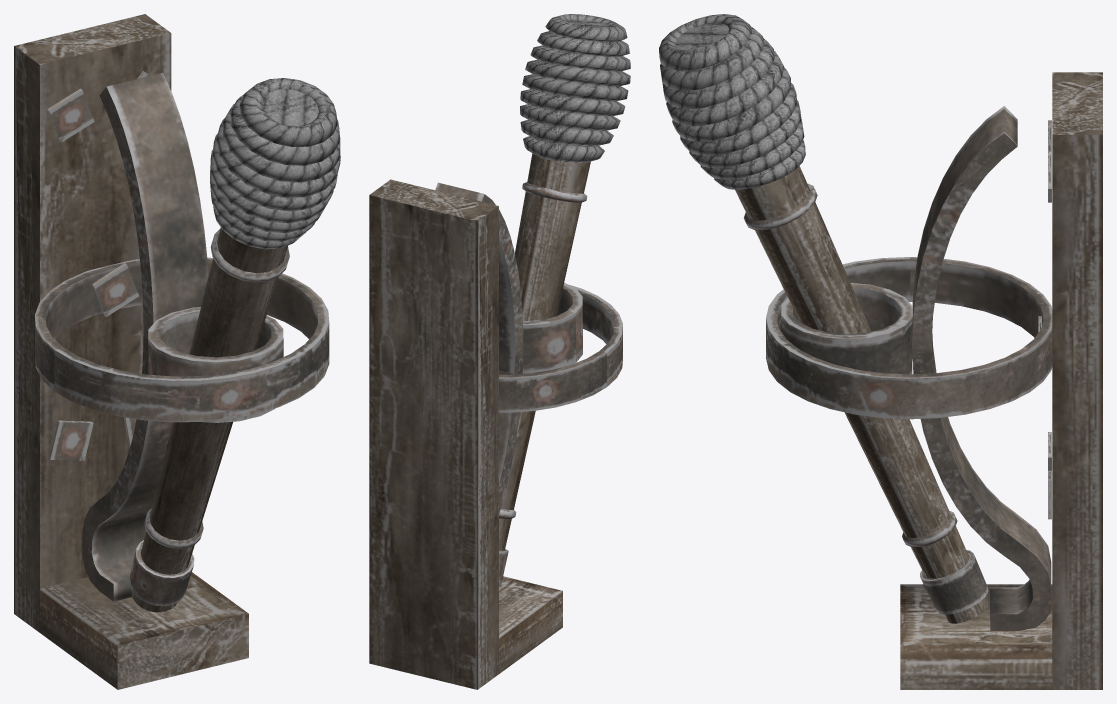
Rendered from SM_Torch02.FBX.
3 views of the same model, side by side, from view 1: azimuth 30°, elevation 25°; view 2: azimuth 150°, elevation 25°; view 3: azimuth 270°, elevation 25° (orthographic). The views are drawn at different scales.
Visible parts, largest first — view 1: SM_Torch02; view 2: SM_Torch02; view 3: SM_Torch02.
Boxes of the visible parts, bbox=[...] form: SM_Torch02: bbox=[14, 14, 340, 689]; SM_Torch02: bbox=[369, 14, 630, 689]; SM_Torch02: bbox=[659, 14, 1102, 689].
Size of the model in its own units: 42.51 by 65.46 by 104.
